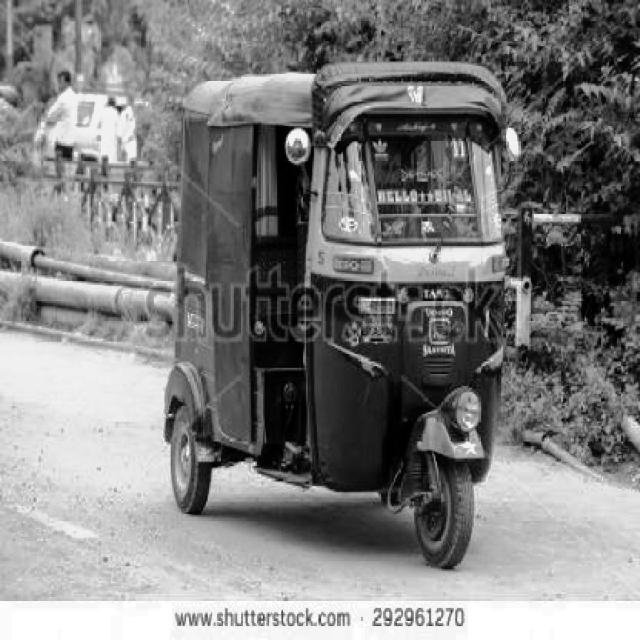Auto-Rickshaw: (158, 58, 510, 574)
